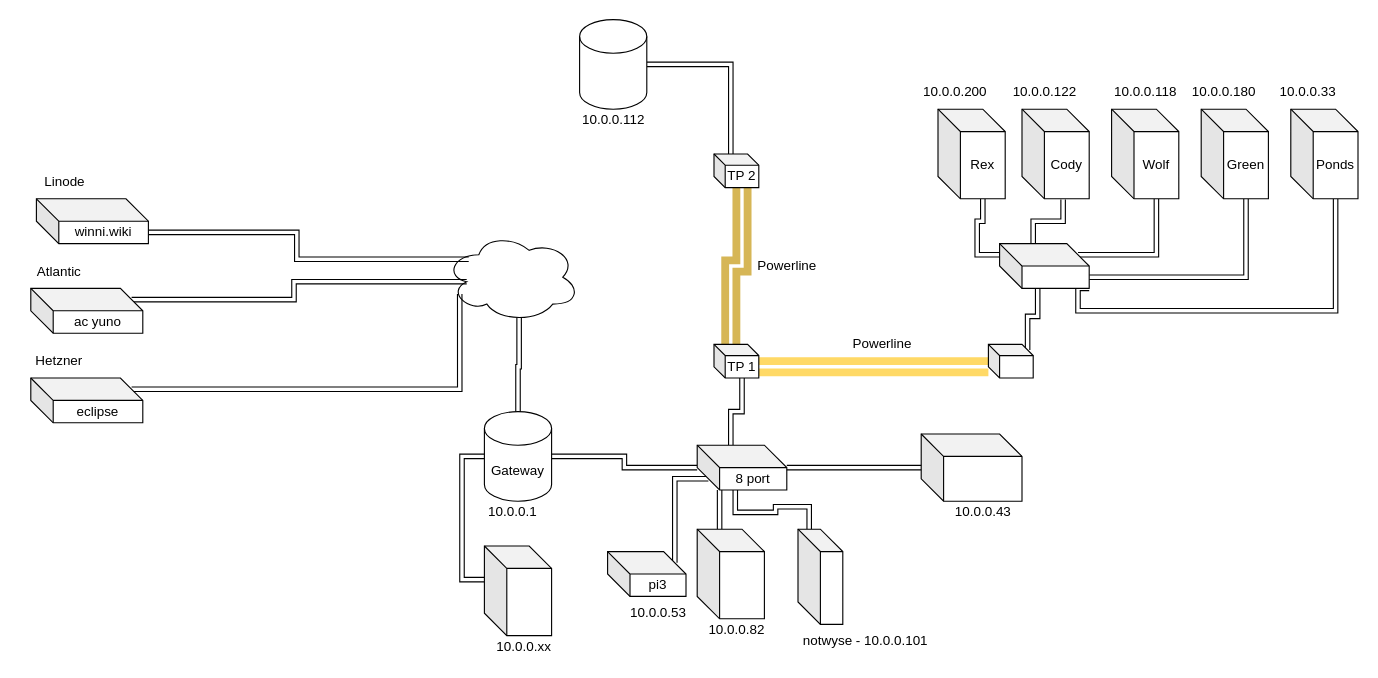
The diagram is 1378 pixels wide and 678 high, and some of its shapes have lost their labels. Each missing label, with the centre of its shape:
24 Port: (x=1043, y=265)
chewie: (x=730, y=573)
falcon: (x=971, y=467)
Internet: (x=512, y=276)
mother pc: (x=517, y=590)
Nighthawk: (x=612, y=63)
TP 3: (x=1010, y=360)
